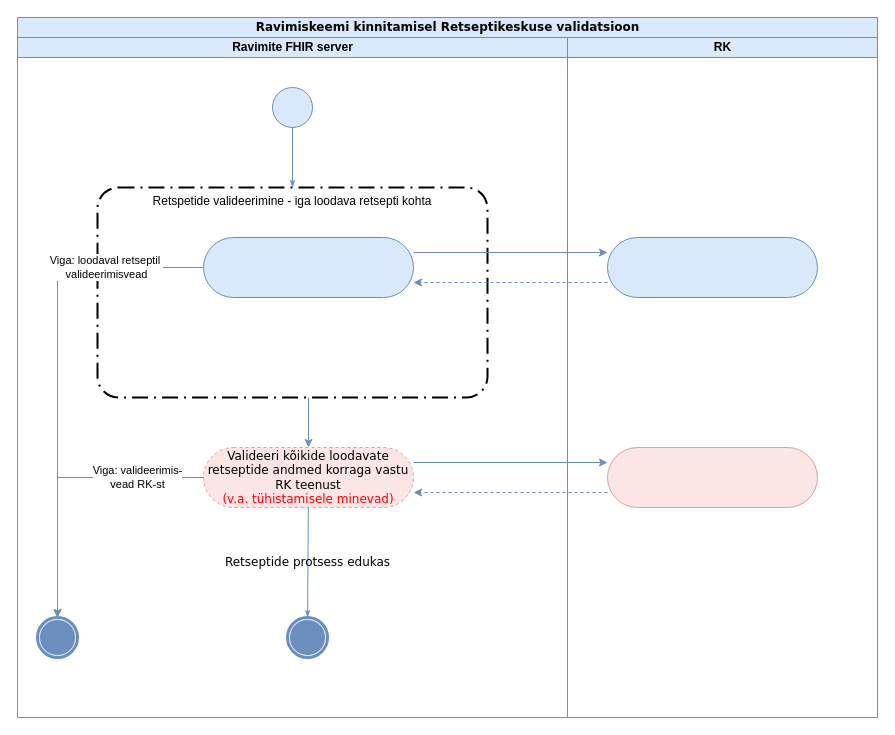
Image size: 895x735. Some labels were removed from this diagram. The shapes that lost their labels are listed below. From the top down, each one's centre as x and y in pixels, then its label:
At [308,267]: "Teosta loodava retsepti kohta päring ja kontrolli vigu".
At [712,267]: "rets.soodustuse_kysimine".
At [712,477]: "rets. uus teenus?".
